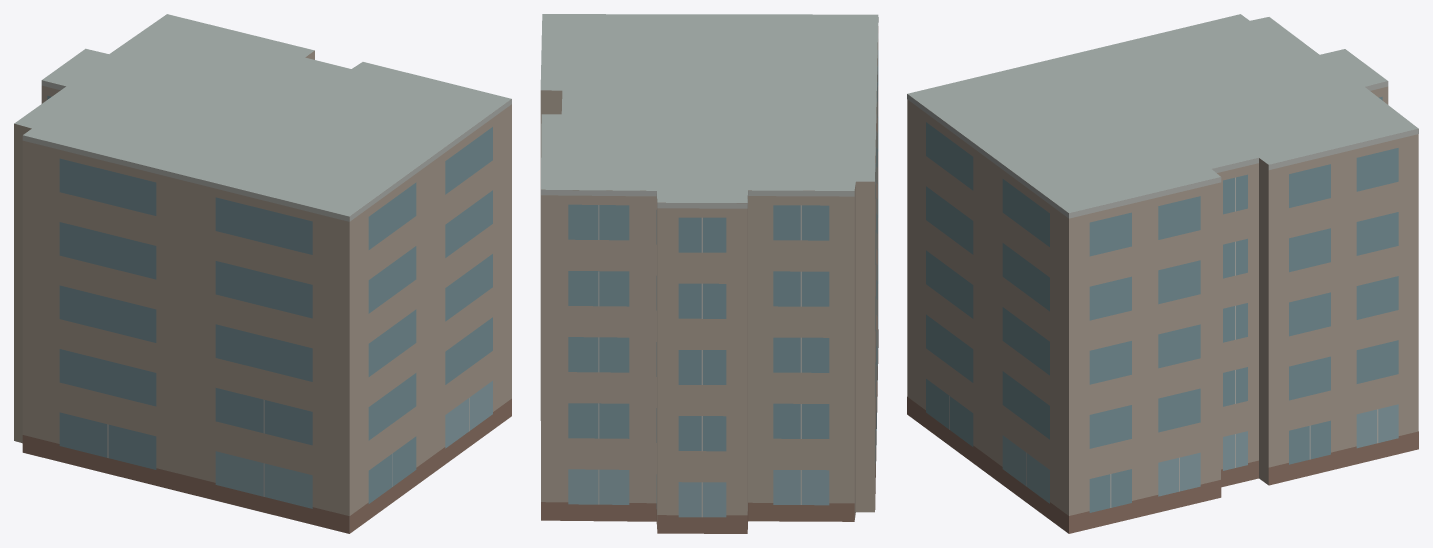
Rendered from survey-upis-32694459.glb.
3 renders of one model, left to right at view 1: azimuth 30°, elevation 25°; view 2: azimuth 150°, elevation 25°; view 3: azimuth 270°, elevation 25°, orthographic. The views are drawn at different scales.
Parts seen in each view (by area): view 1: survey-upis-32694459.tmp; view 2: survey-upis-32694459.tmp; view 3: survey-upis-32694459.tmp.
Part boxes in pixels (x1,y1,x2,y2): survey-upis-32694459.tmp: [14, 14, 511, 533]; survey-upis-32694459.tmp: [540, 14, 878, 533]; survey-upis-32694459.tmp: [907, 14, 1418, 533].
Bounding box in the file's own units: 19.33 × 14.5 × 20.98.
